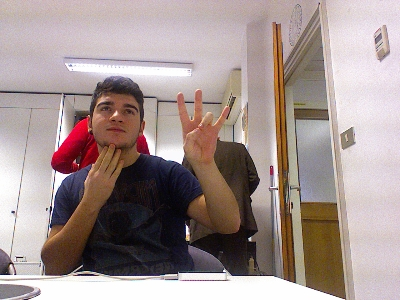观音: (175, 88, 229, 166)
